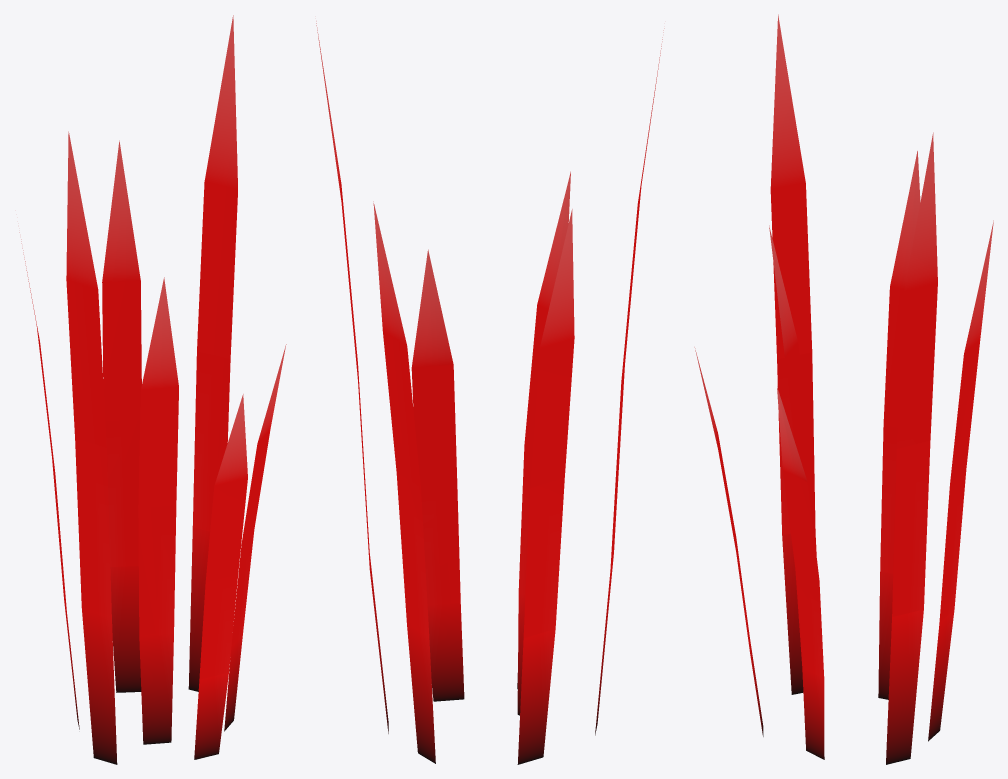
File: grass.fbx
3 renders of one model, left to right at view 1: azimuth 30°, elevation 25°; view 2: azimuth 150°, elevation 25°; view 3: azimuth 270°, elevation 25°, orthographic. The views are drawn at different scales.
Parts seen in each view (by area): view 1: grass; view 2: grass; view 3: grass.
Boxes of the visible parts, left/top/right/bottom form: grass: left=19, top=15, right=286, bottom=764; grass: left=316, top=21, right=664, bottom=764; grass: left=694, top=14, right=993, bottom=764.
Size of the model in its own units: 11.64 by 30 by 12.47.
